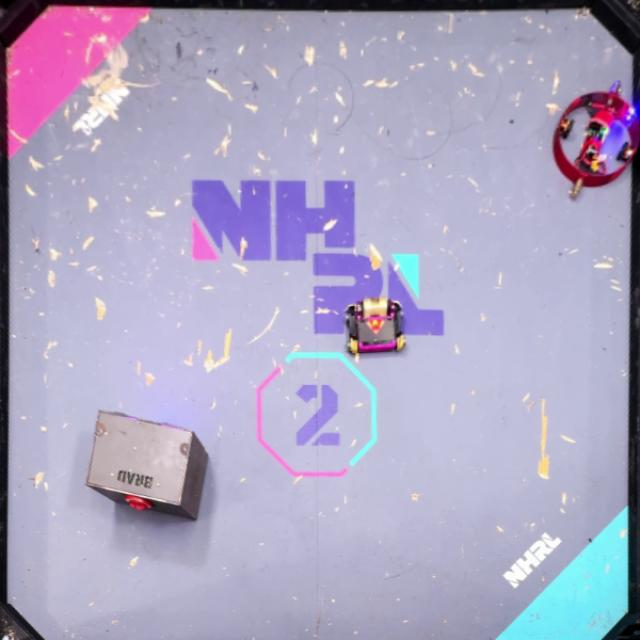housebot: (85, 409, 209, 521)
robot: (552, 79, 640, 199), (344, 298, 406, 352)
